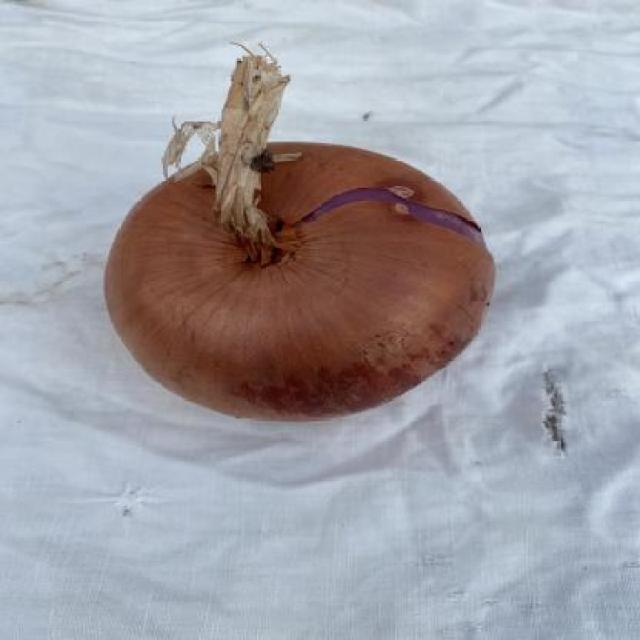Onion: (105, 48, 495, 419)
